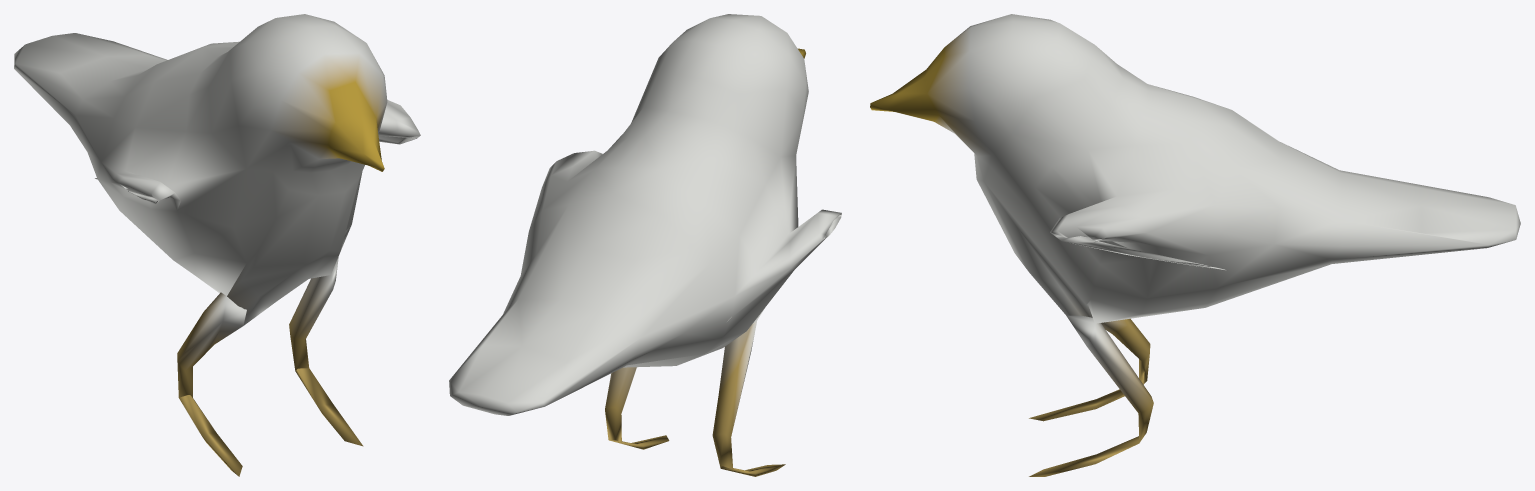
Rendered from myna-0.glb.
3 renders of one model, left to right at view 1: azimuth 30°, elevation 25°; view 2: azimuth 150°, elevation 25°; view 3: azimuth 270°, elevation 25°, orthographic. The views are drawn at different scales.
Visible parts, largest first — view 1: myna; view 2: myna; view 3: myna.
Boxes of the visible parts, <box> form: myna: <box>14,14,420,476</box>; myna: <box>449,14,841,476</box>; myna: <box>870,14,1520,476</box>.
Bounding box in the file's own units: 0.1162 × 0.172 × 0.2379.
